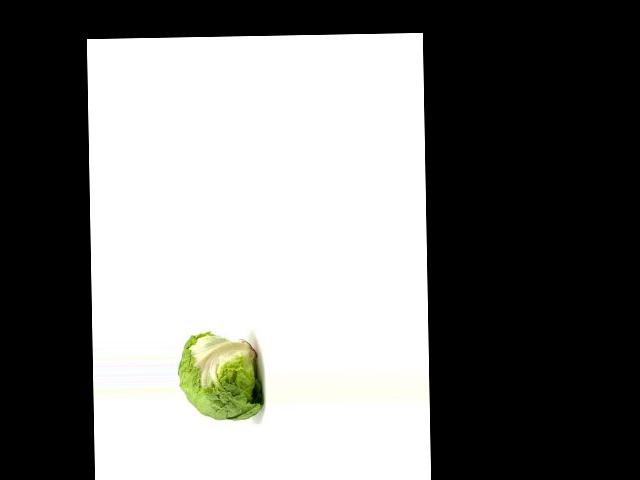lettuce: (182, 332, 282, 438)
